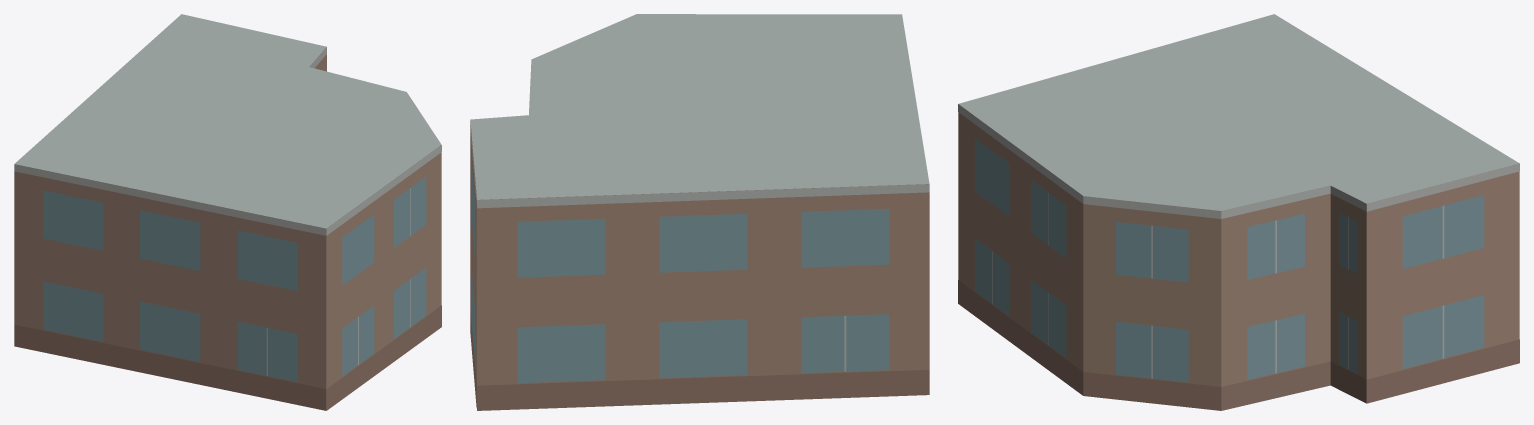
File: survey-upis-32711453.glb
3 renders of one model, left to right at view 1: azimuth 30°, elevation 25°; view 2: azimuth 150°, elevation 25°; view 3: azimuth 270°, elevation 25°, orthographic. The views are drawn at different scales.
Parts seen in each view (by area): view 1: survey-upis-32711453.tmp; view 2: survey-upis-32711453.tmp; view 3: survey-upis-32711453.tmp.
Part boxes in pixels (<box>): survey-upis-32711453.tmp: <box>14,14,441,410</box>; survey-upis-32711453.tmp: <box>470,14,929,410</box>; survey-upis-32711453.tmp: <box>958,14,1519,410</box>.
Bounding box in the file's own units: 12.91 × 6.1 × 15.55.
